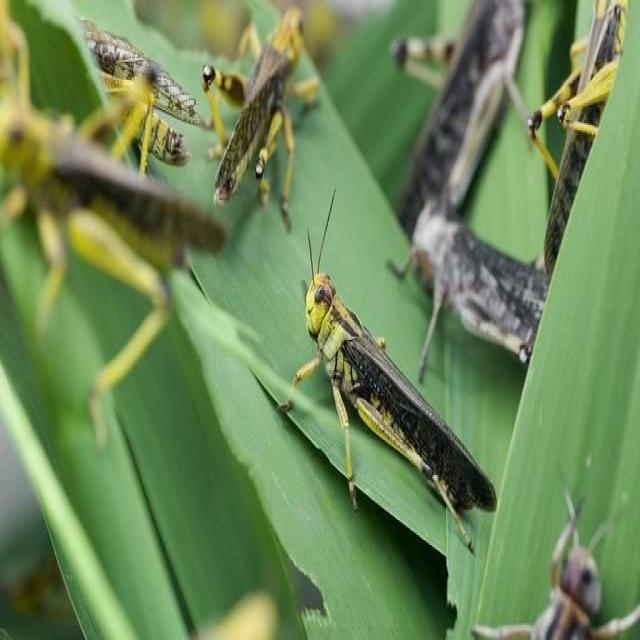ZhaMeng: (259, 253, 514, 585), (388, 194, 566, 404), (192, 7, 338, 261), (517, 1, 637, 291)
